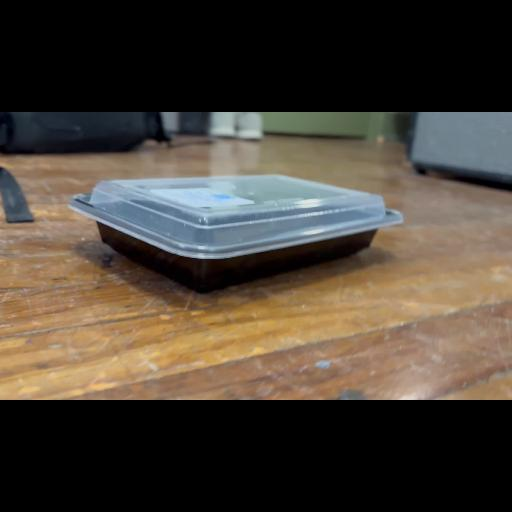rigid_plastic_container: (70, 166, 410, 278)
